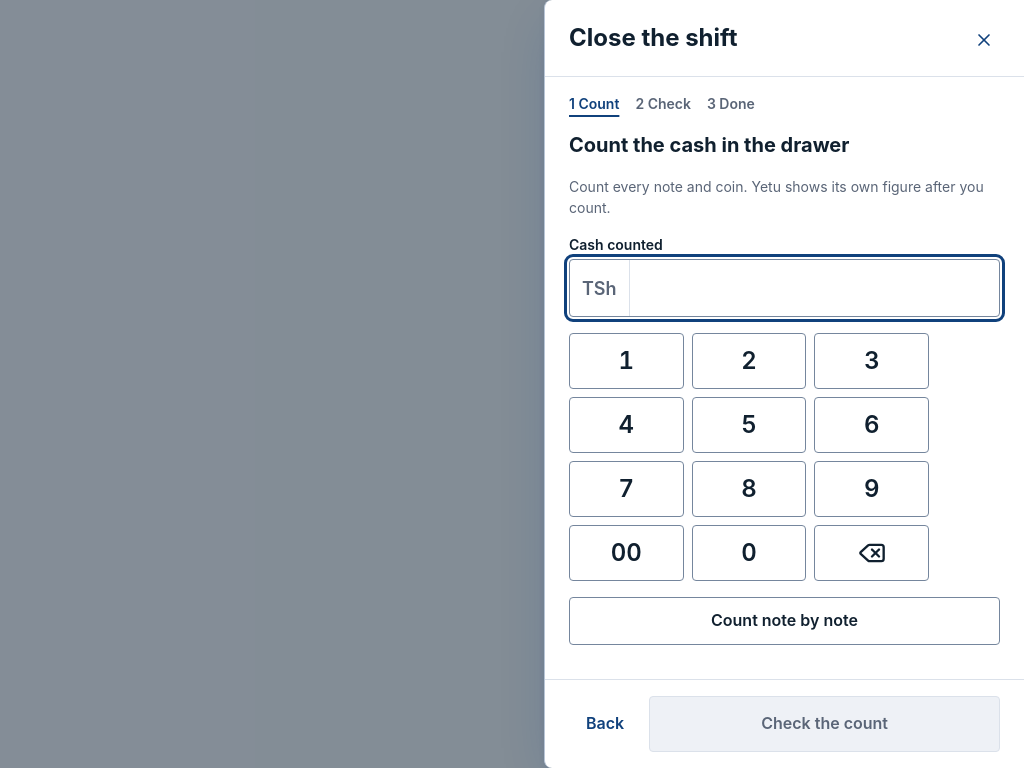
Test case: CloseShiftSheet: count first, blind › moves to the check only once a count is entered
Check: the button "Check the count" is disabled, box [649,696,1000,752]
In the field with test id "counted-cash": {"x": 814, "y": 288} [630,260,999,316], type "74000"
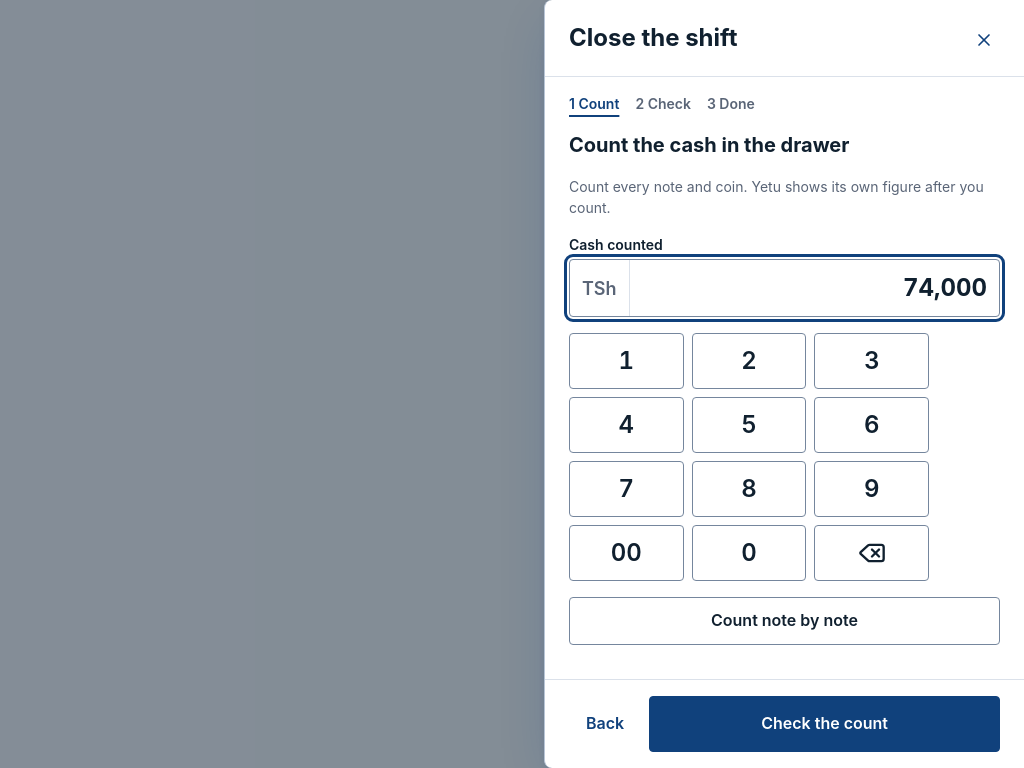
Click the button "Check the count": {"x": 825, "y": 724} [649,696,1000,752]
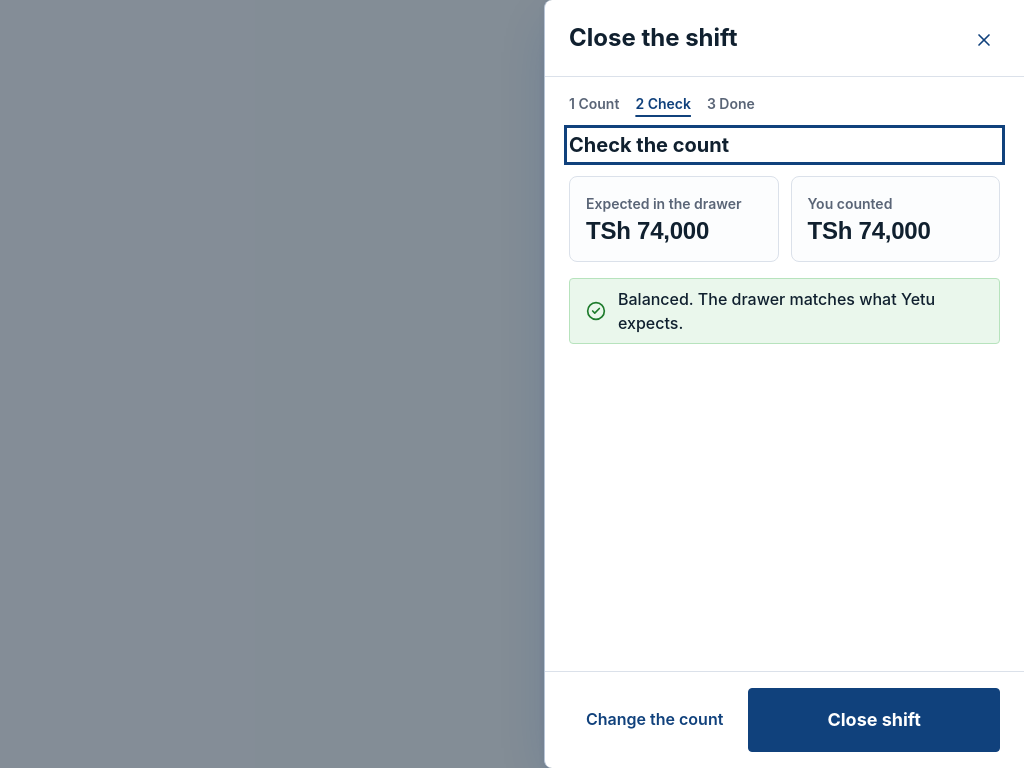
Check: the element with test id "close-step-check" is shown, box [569,130,1000,262]
Check: the element with test id "close-expected" reads "TSh 74,000", box [586,217,709,244]
Check: the element with test id "close-counted" reads "TSh 74,000", box [808,217,930,244]
